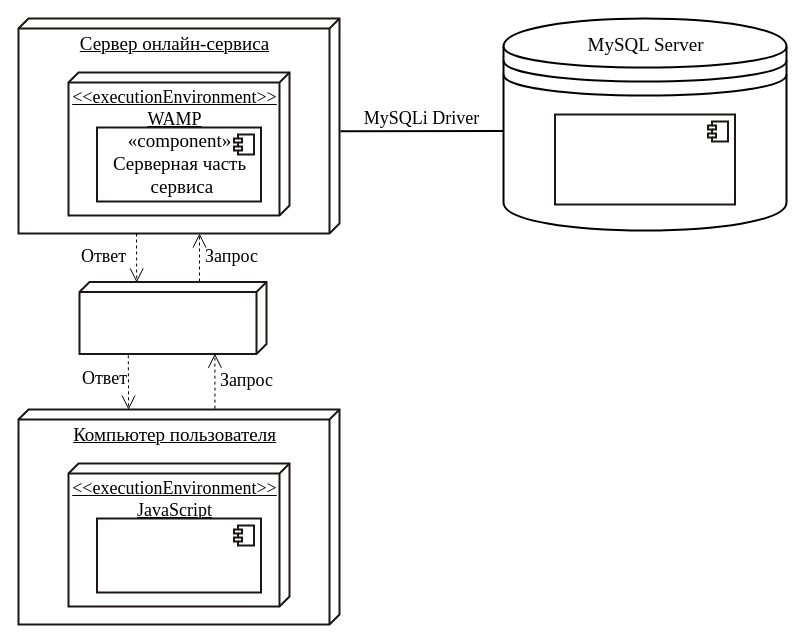
Some shapes in this 804 by 642 pixel diagram are drawn without their labels. The shapes that lost their labels are listed below. From the top down, each one's centre as x and y in pixels, then its label:
At point 645,159: "«component» БД diplom".
At point 172,317: "HTTP-запросы".
At point 179,555: "«component» ClientInterface".
